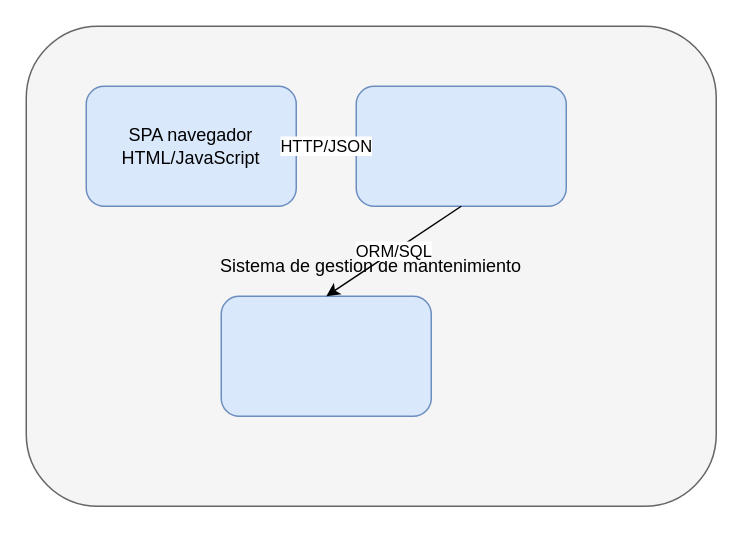
The diagram is 743 pixels wide and 533 high, and some of its shapes have lost their labels. The centre of each missing label's shape, as x and y in pixels:
"Almacén SQL SQLite/MySQL" belongs at pixel 325 355.
"API Flask Dominios y capas" belongs at pixel 460 145.
